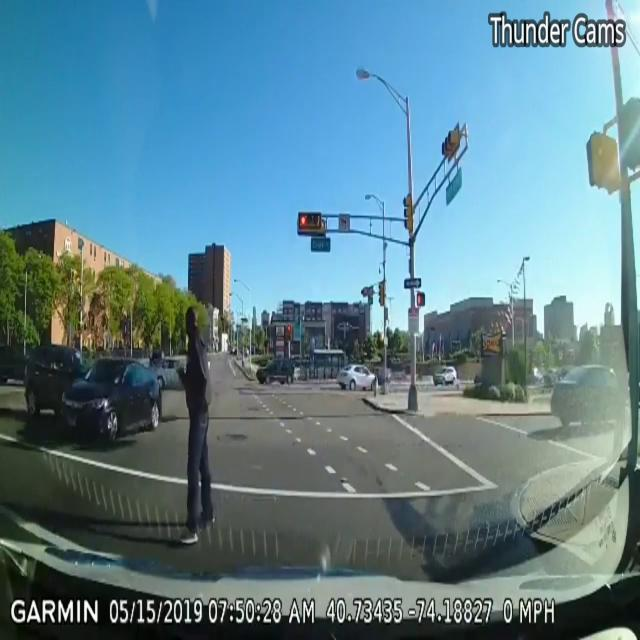accident: (18, 342, 170, 448)
